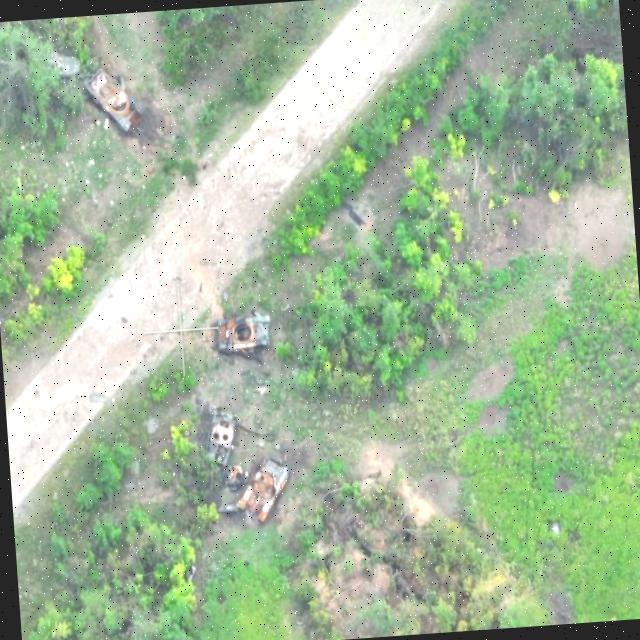AIFV: (46, 53, 83, 79)
Destroyed: (84, 66, 148, 138), (236, 461, 295, 527), (214, 313, 272, 355), (201, 412, 242, 467)
